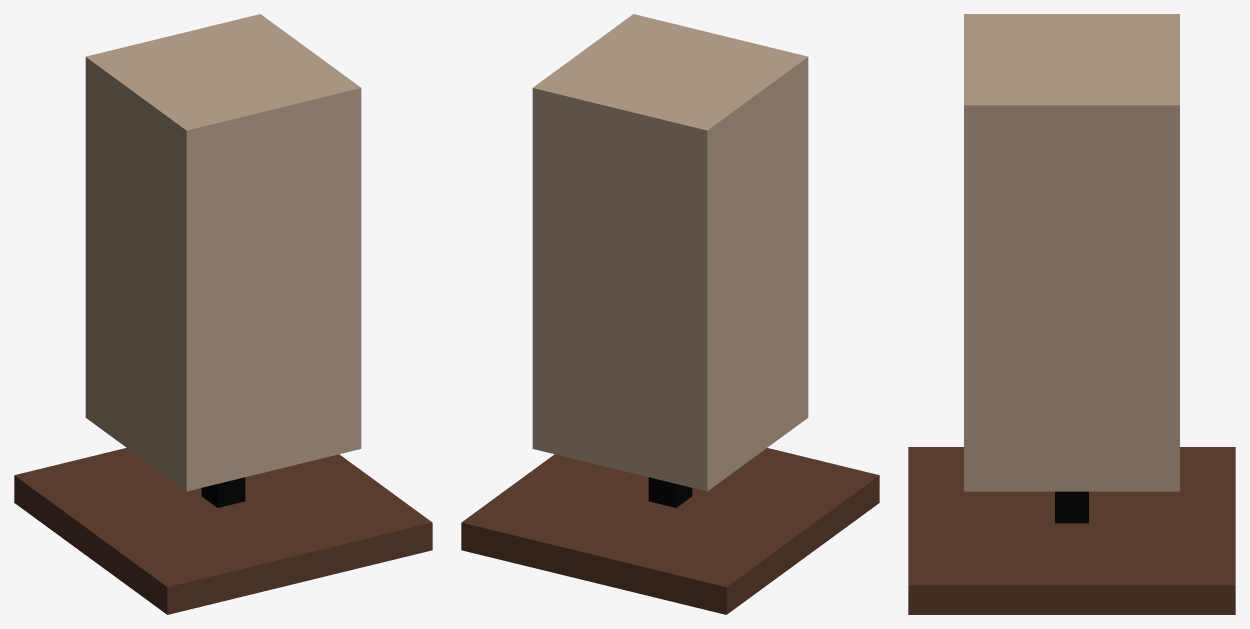
File: Lampara.fbx
3 views of the same model, side by side, from view 1: azimuth 30°, elevation 25°; view 2: azimuth 150°, elevation 25°; view 3: azimuth 270°, elevation 25° (orthographic). The views are drawn at different scales.
Visible parts, largest first — view 1: Lampara; view 2: Lampara; view 3: Lampara.
Boxes of the visible parts, x1,y1,x2,y2 form: Lampara: (14,14,432,614); Lampara: (461,14,879,614); Lampara: (908,14,1235,614).
Bounding box in the file's own units: 200 × 328 × 200.
